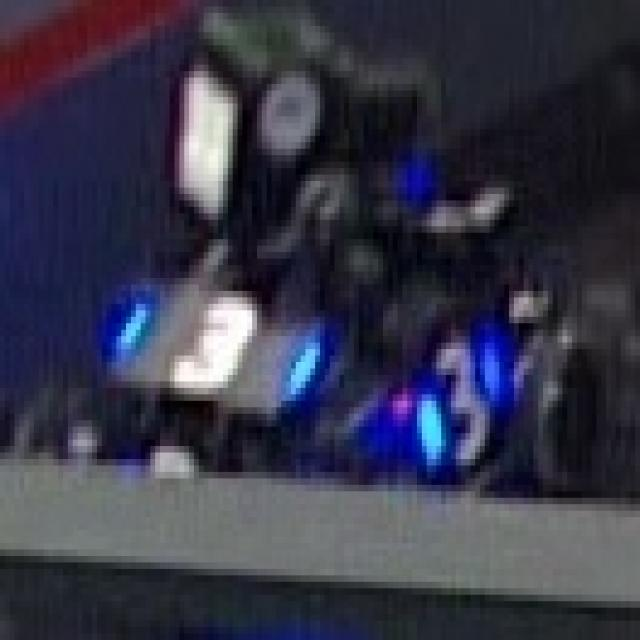B3: (412, 330, 504, 466)
